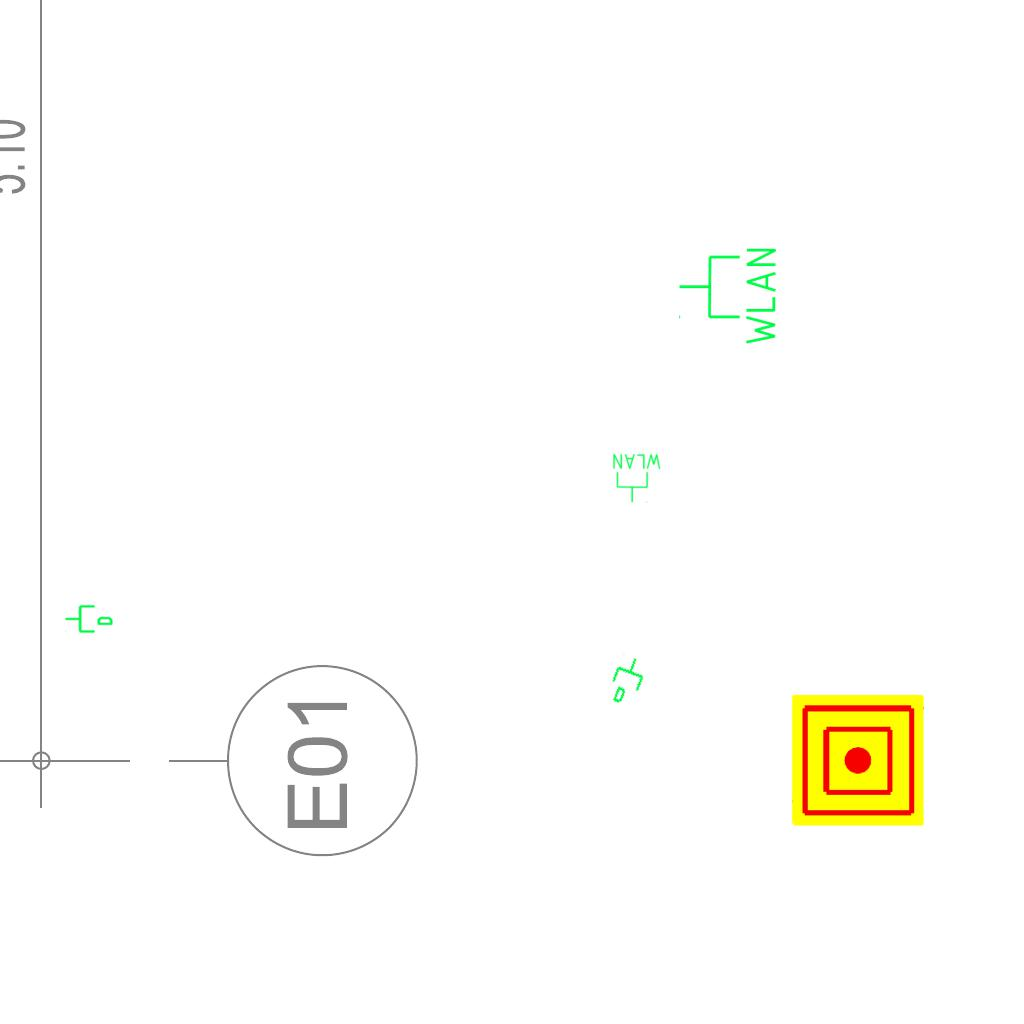Datenanschluss_einfach: (603, 651, 653, 711), (64, 601, 114, 635)
NAM-Nichtautomatischer_Melder: (792, 694, 924, 826)
WLAN: (676, 244, 780, 349), (611, 452, 663, 504)
